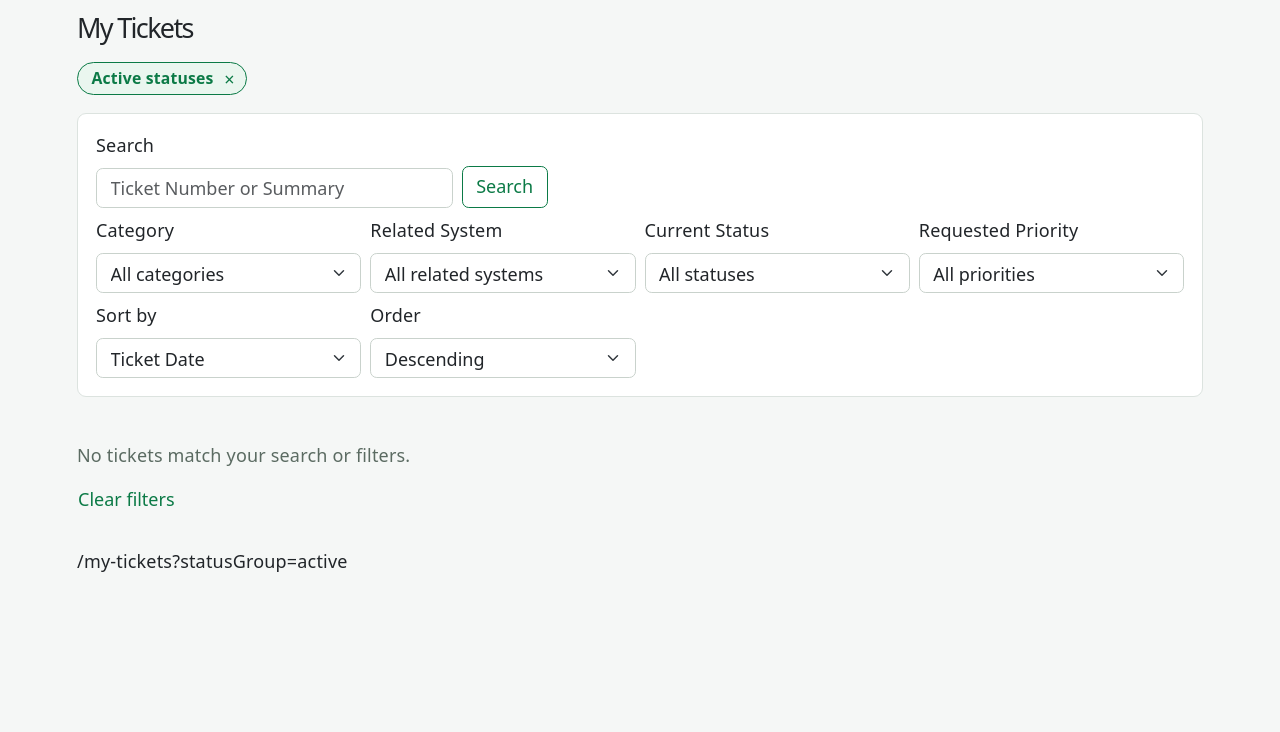
Test: Filters in the page address (UI-09) › opens My Tickets with the filters from the link, shows the Active statuses chip, and removes it
Expected: the text "Active statuses" is shown, [92,67,214,89]
Step 1. Click the button named "remove filter: active statuses" → click(229, 79), box [220,70,239,88]
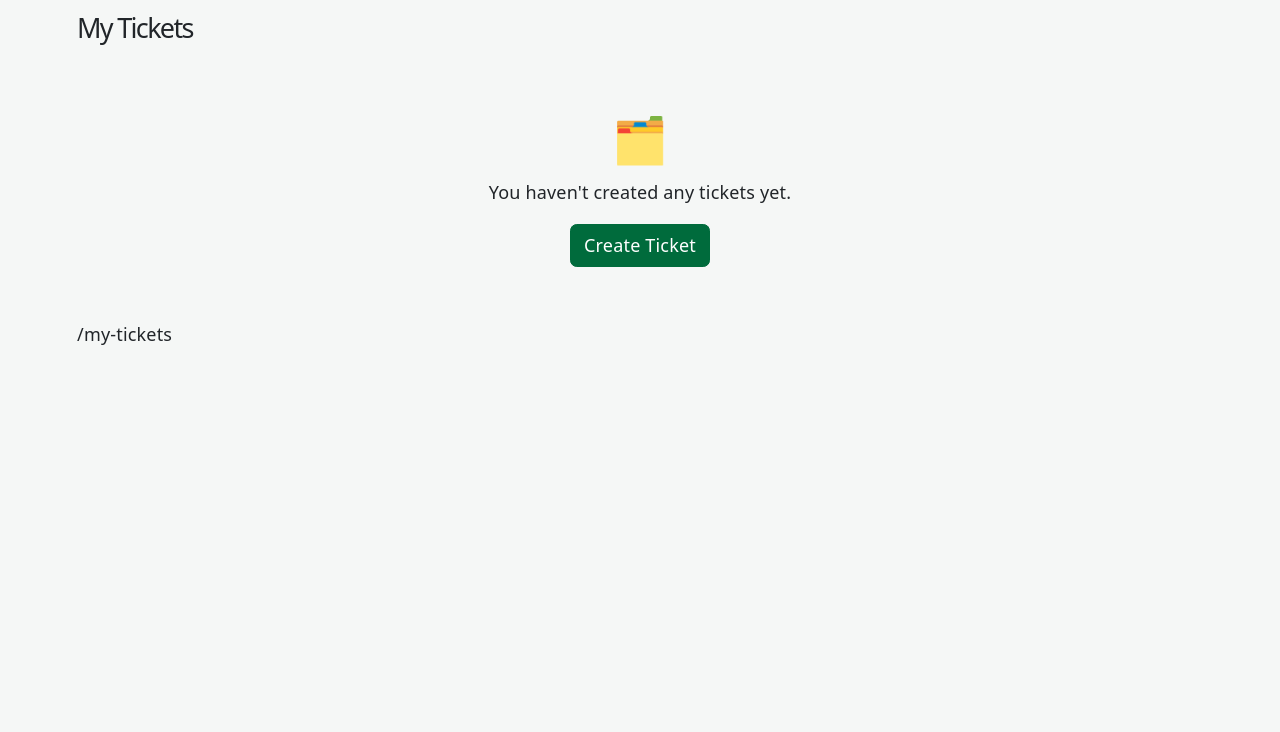
Result: the text with test id "location" reads "/my-tickets" at [77,322,172,346]
